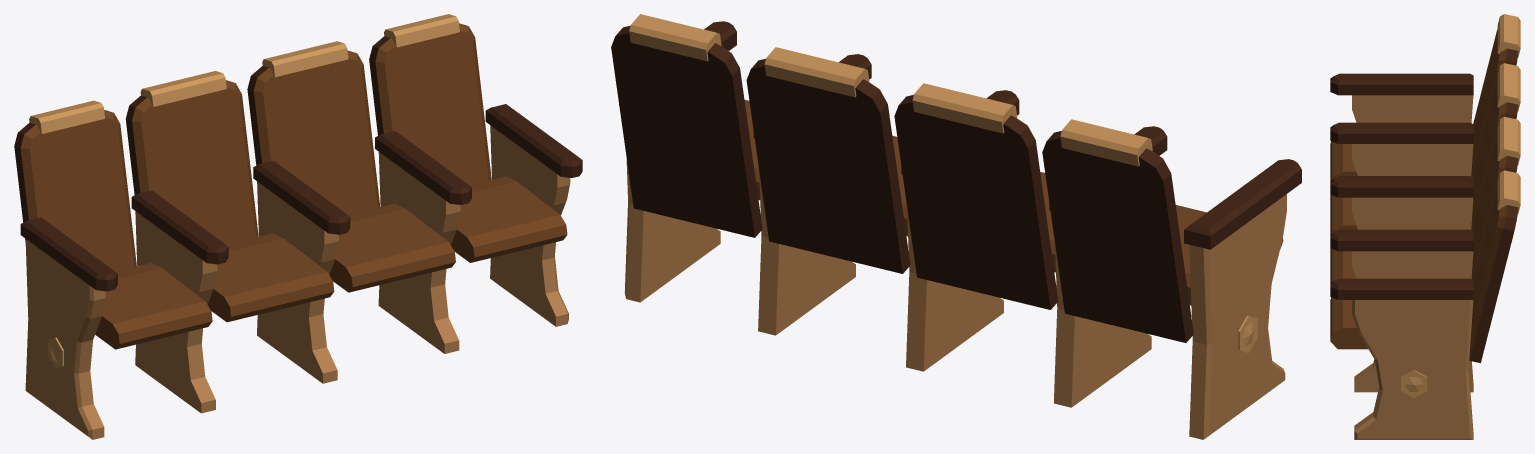
Rendered from concert-seat-row-b11dd8.glb.
3 renders of one model, left to right at view 1: azimuth 30°, elevation 25°; view 2: azimuth 150°, elevation 25°; view 3: azimuth 270°, elevation 25°, orthographic. The views are drawn at different scales.
Parts seen in each view (by area): view 1: row-body, seat-2-mesh, seat-3-mesh, seat-1-mesh, seat-4-mesh; view 2: row-body, seat-1-mesh; view 3: row-body, seat-4-mesh, seat-2-mesh, seat-1-mesh, seat-3-mesh.
Part boxes in pixels (x1,y1,x2,y2): row-body: (14, 14, 582, 439); seat-2-mesh: (207, 233, 334, 322); seat-3-mesh: (329, 203, 455, 292); seat-1-mesh: (95, 263, 212, 349); seat-4-mesh: (451, 176, 567, 262); row-body: (611, 14, 1301, 439); seat-1-mesh: (1175, 205, 1283, 305); row-body: (1330, 14, 1520, 439); seat-4-mesh: (1330, 297, 1368, 349); seat-2-mesh: (1330, 194, 1357, 234); seat-1-mesh: (1330, 141, 1357, 180); seat-3-mesh: (1330, 248, 1356, 282).
Bounding box in the file's own units: 2 × 0.9971 × 0.7502.
